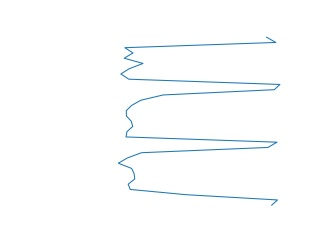majorRiverChannelBar: (117, 38, 282, 206)
